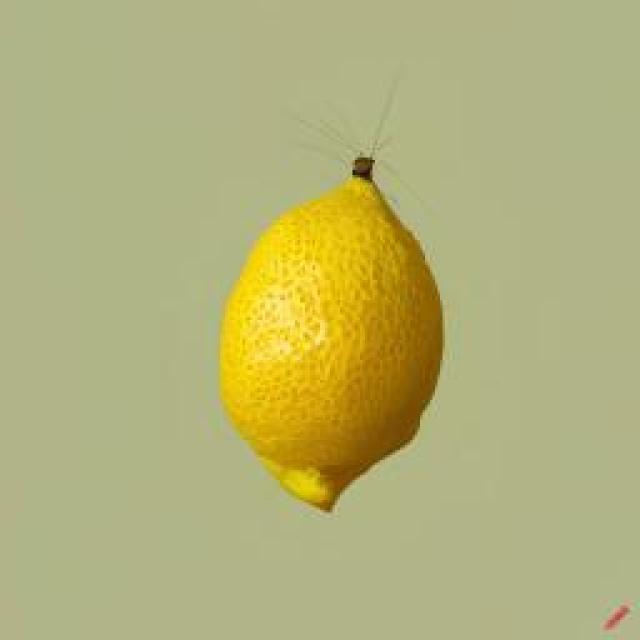Lemon: (217, 158, 444, 515)
